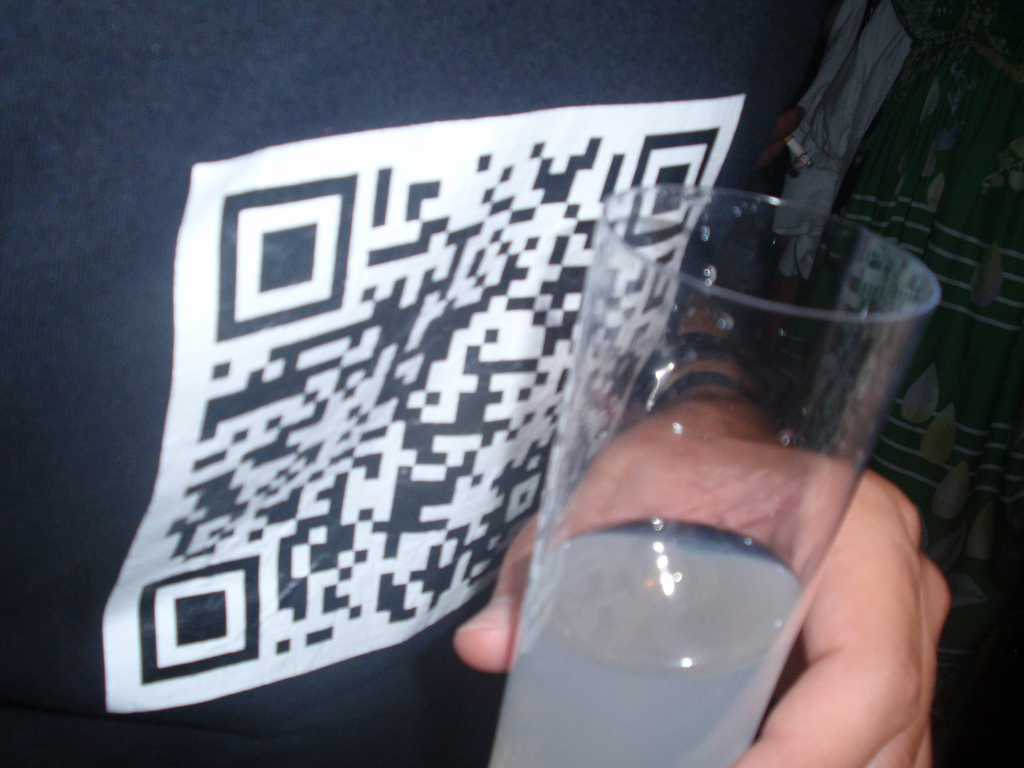QR-CODE: (139, 128, 720, 684)
